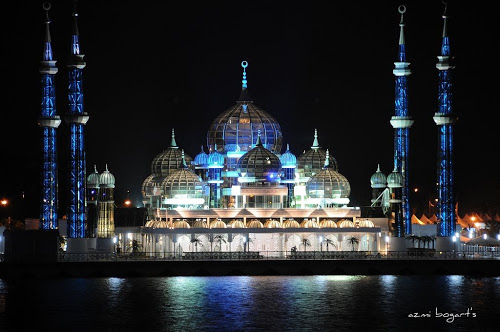Mosque: (36, 4, 466, 241)
